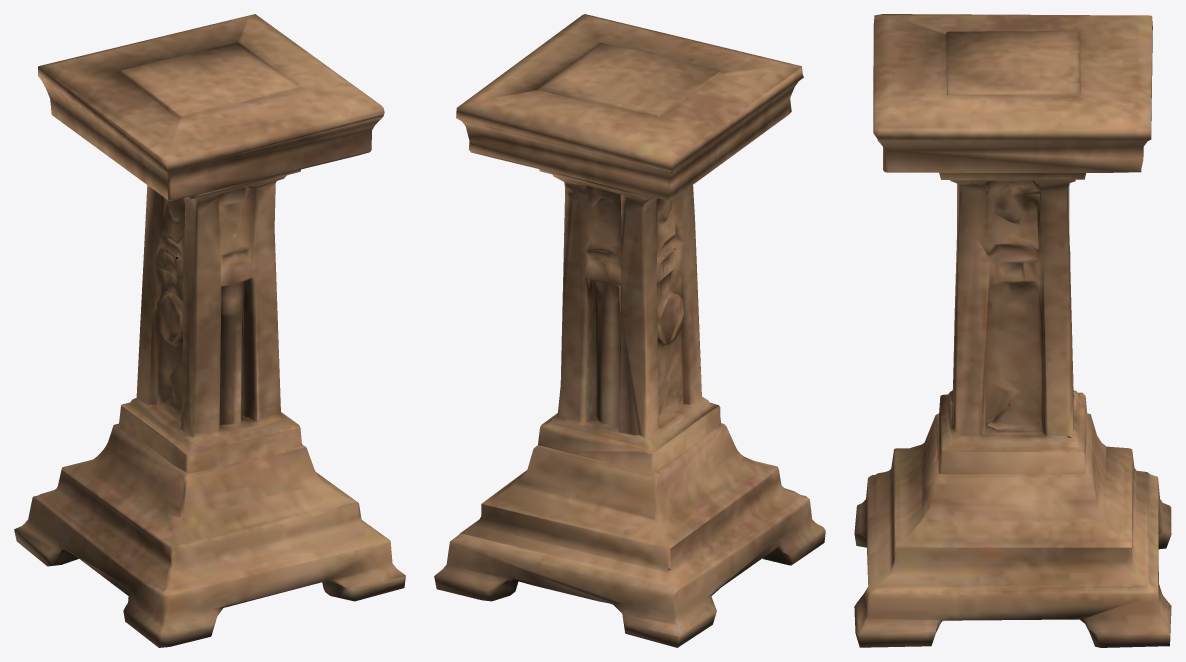
Rendered from ornate-sandstone-sundial-v001.glb.
3 views of the same model, side by side, from view 1: azimuth 30°, elevation 25°; view 2: azimuth 150°, elevation 25°; view 3: azimuth 270°, elevation 25° (orthographic). The views are drawn at different scales.
Parts seen in each view (by area): view 1: ornate-sandstone-sundial; view 2: ornate-sandstone-sundial; view 3: ornate-sandstone-sundial.
Part boxes in pixels (x1=…): ornate-sandstone-sundial: x1=14, y1=14, x2=405, y2=647; ornate-sandstone-sundial: x1=434, y1=14, x2=825, y2=647; ornate-sandstone-sundial: x1=854, y1=14, x2=1171, y2=647.
Size of the model in its own units: 0.5966 by 1.13 by 0.6151.
1 material, 1 textured.
